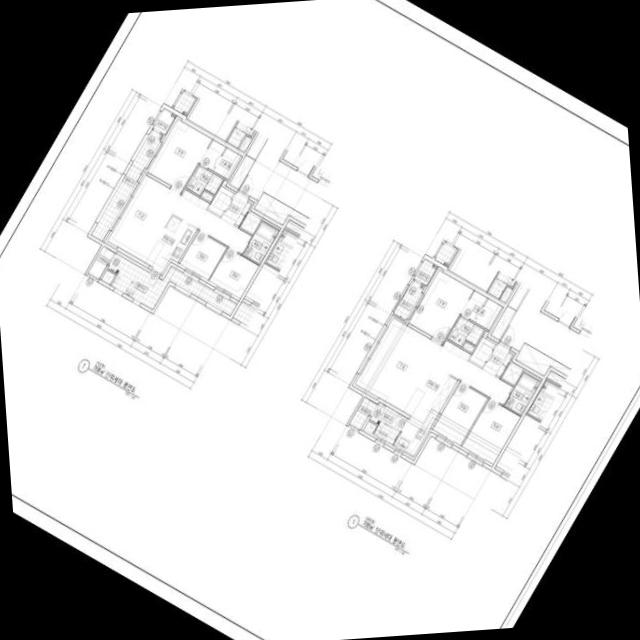background: (0, 0, 640, 640)
space_balconi: (90, 129, 163, 241), (107, 253, 236, 316), (370, 402, 407, 445), (393, 280, 424, 320)
space_bedroom: (147, 119, 212, 191), (408, 270, 473, 342), (461, 399, 520, 464), (432, 382, 487, 445), (208, 248, 258, 298), (179, 231, 226, 280)
space_dressroom: (461, 290, 502, 330), (199, 139, 240, 179)
space_front: (482, 342, 513, 377), (221, 191, 251, 227)
space_kitchen: (393, 368, 458, 457), (144, 214, 197, 272)
space_living_room: (355, 318, 512, 416), (107, 175, 251, 262)
space_other: (349, 397, 377, 429), (490, 306, 516, 340), (88, 246, 114, 279), (469, 337, 495, 367), (207, 186, 233, 216), (240, 212, 261, 234), (501, 363, 522, 385), (101, 270, 115, 285), (364, 421, 376, 434), (200, 191, 213, 202), (462, 342, 474, 353)
space_outdoor_room: (413, 259, 437, 286), (152, 108, 176, 135)
space_toilet: (503, 372, 540, 415), (242, 221, 278, 264), (185, 165, 223, 196), (446, 316, 484, 347)
